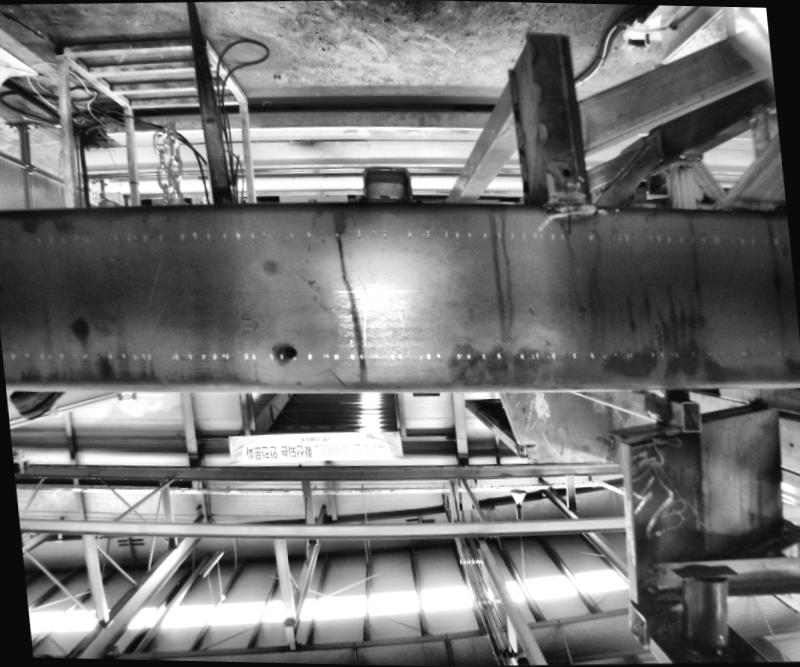bracket: (347, 156, 423, 202)
hole: (282, 345, 294, 357), (560, 168, 571, 177)
welding: (542, 186, 590, 208)
